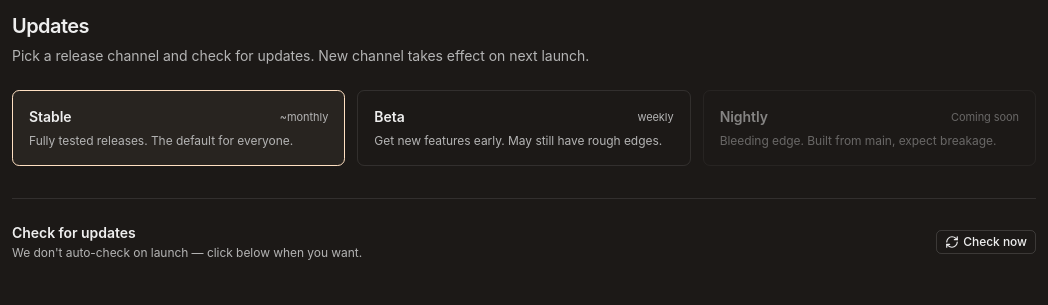
Test: updateChannelSection › writes the channel and surfaces the restart prompt
The width and height of the screenshot is (1048, 305).
Click the button "Beta" at [390, 116], box top-left (357, 90), bottom-right (691, 166)
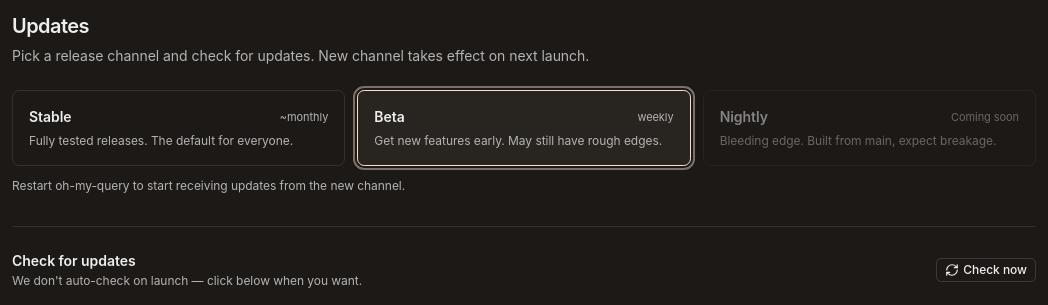
Now the text "Restart oh-my-query to start receiving updates" is shown, box top-left (12, 178), bottom-right (405, 193)
